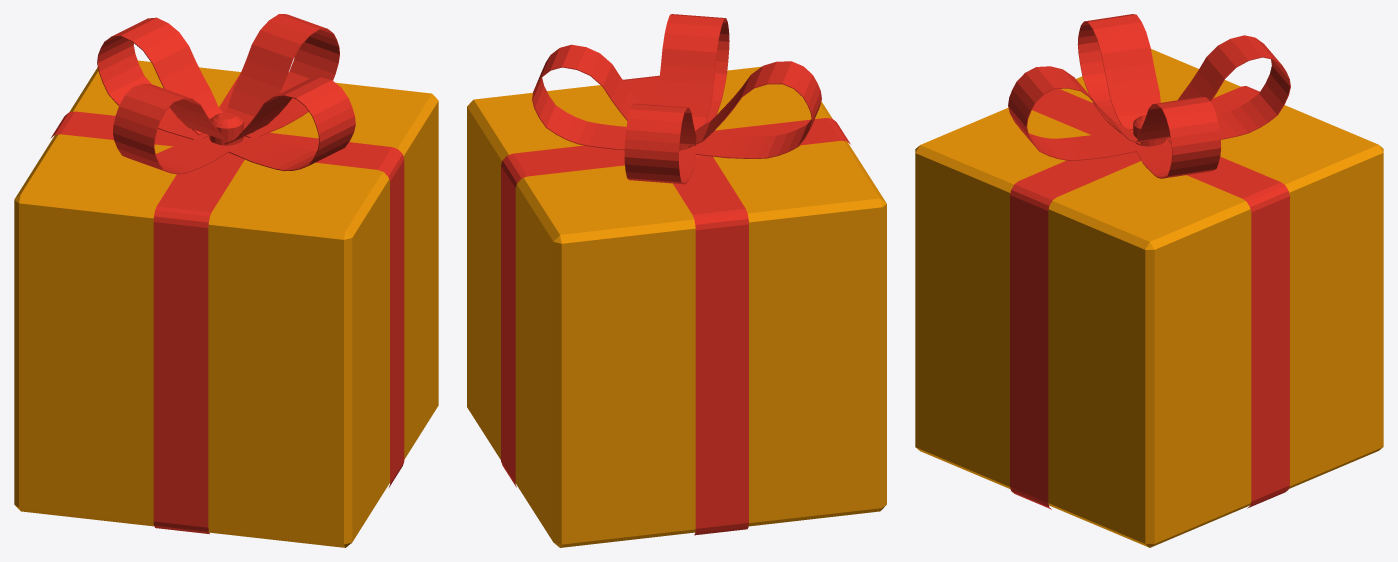
File: fuel-runner-present_1119a.glb
3 renders of one model, left to right at view 1: azimuth 30°, elevation 25°; view 2: azimuth 150°, elevation 25°; view 3: azimuth 270°, elevation 25°, orthographic. The views are drawn at different scales.
Parts seen in each view (by area): view 1: Box-Mat, Box-CK Red.1; view 2: Box-Mat, Box-CK Red.1; view 3: Box-Mat, Box-CK Red.1.
Part boxes in pixels (left/top/right/bottom): Box-Mat: left=14, top=60, right=438, bottom=547; Box-CK Red.1: left=50, top=14, right=404, bottom=534; Box-Mat: left=467, top=66, right=886, bottom=547; Box-CK Red.1: left=501, top=14, right=850, bottom=535; Box-Mat: left=915, top=49, right=1383, bottom=547; Box-CK Red.1: left=1008, top=14, right=1290, bottom=509.
Bounding box in the file's own units: 2.03 × 1.88 × 2.03.
